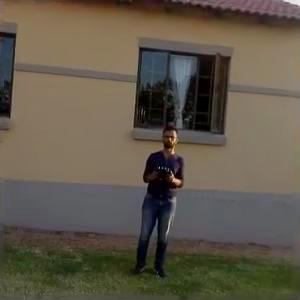follow: (130, 122, 187, 285)
